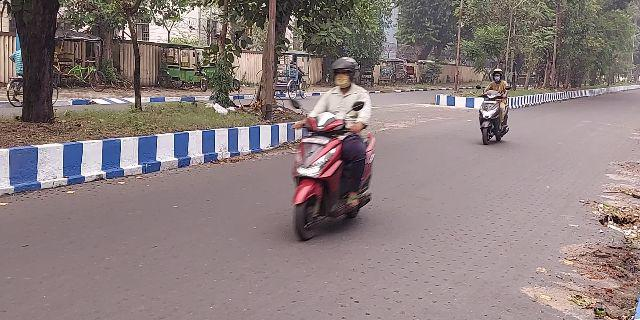Motorbike: (275, 56, 380, 241), (475, 67, 513, 146)
